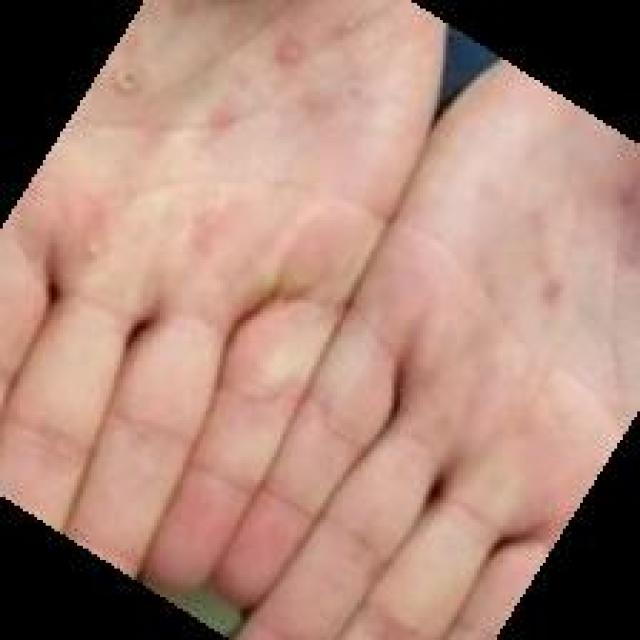monkeypox: (104, 20, 603, 530)
